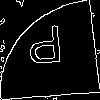P: (25, 25, 66, 73)
